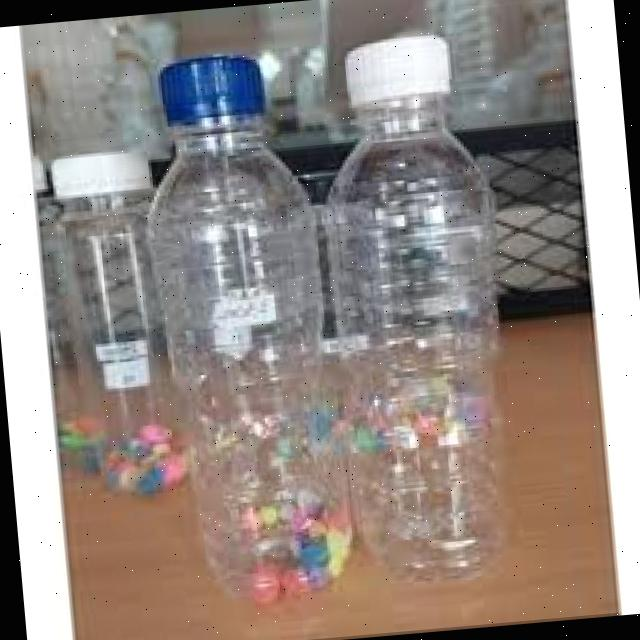bottle: (310, 11, 536, 580), (114, 49, 335, 616)
cap: (328, 32, 460, 123), (163, 39, 270, 132), (50, 144, 150, 202)
